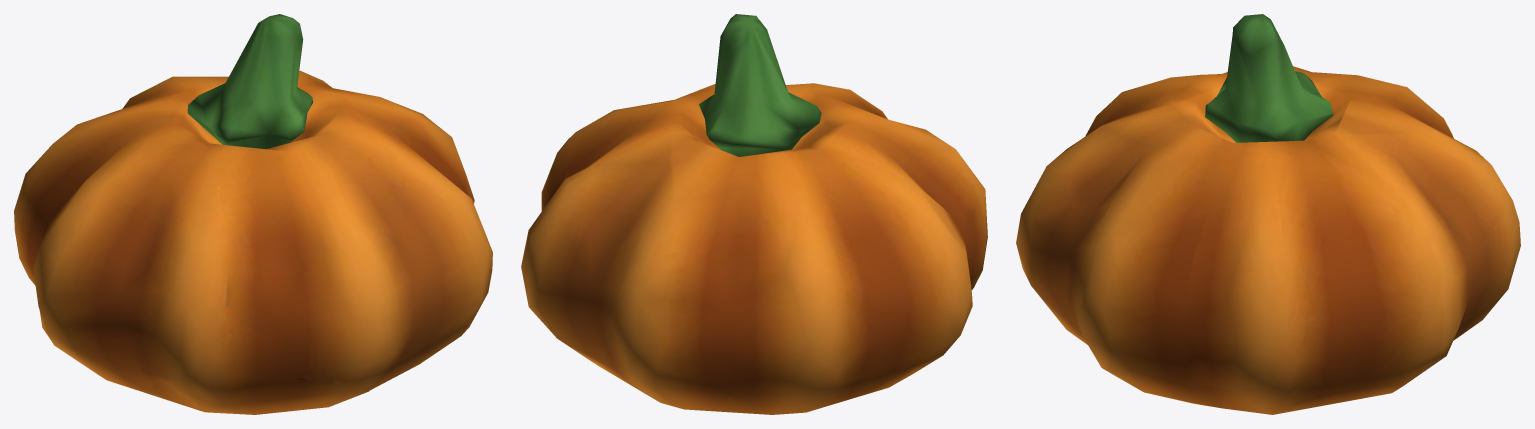
Rendered from pumpkin.glb.
The picture shows the model from 3 angles, left to right: view 1: azimuth 30°, elevation 25°; view 2: azimuth 150°, elevation 25°; view 3: azimuth 270°, elevation 25°; orthographic projection. The views are drawn at different scales.
Visible parts, largest first — view 1: pumpkin; view 2: pumpkin; view 3: pumpkin.
Boxes of the visible parts, x1,y1,x2,y2 form: pumpkin: [14, 14, 492, 414]; pumpkin: [521, 14, 987, 414]; pumpkin: [1016, 14, 1520, 414].
Size of the model in its own units: 0.4446 by 0.3558 by 0.4457.
Materials: 1 (1 with a texture image).
